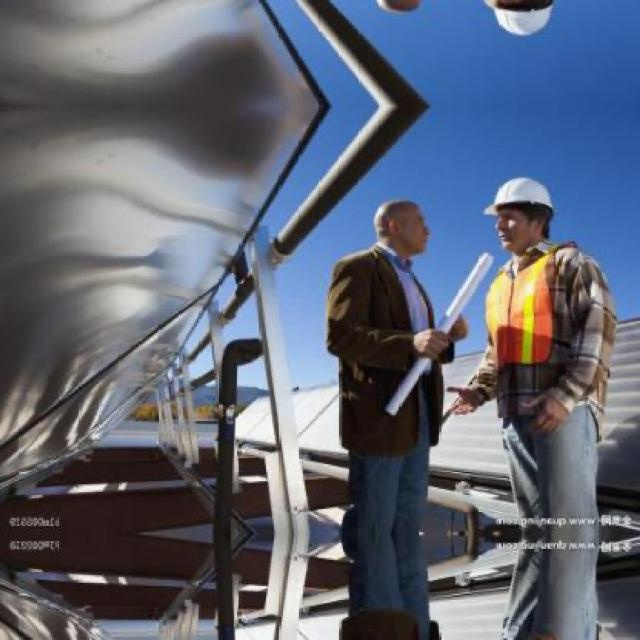helmet: (78, 166, 152, 258), (78, 0, 154, 45)
person: (26, 174, 182, 529), (177, 196, 320, 530), (25, 535, 182, 637), (175, 534, 320, 637)
